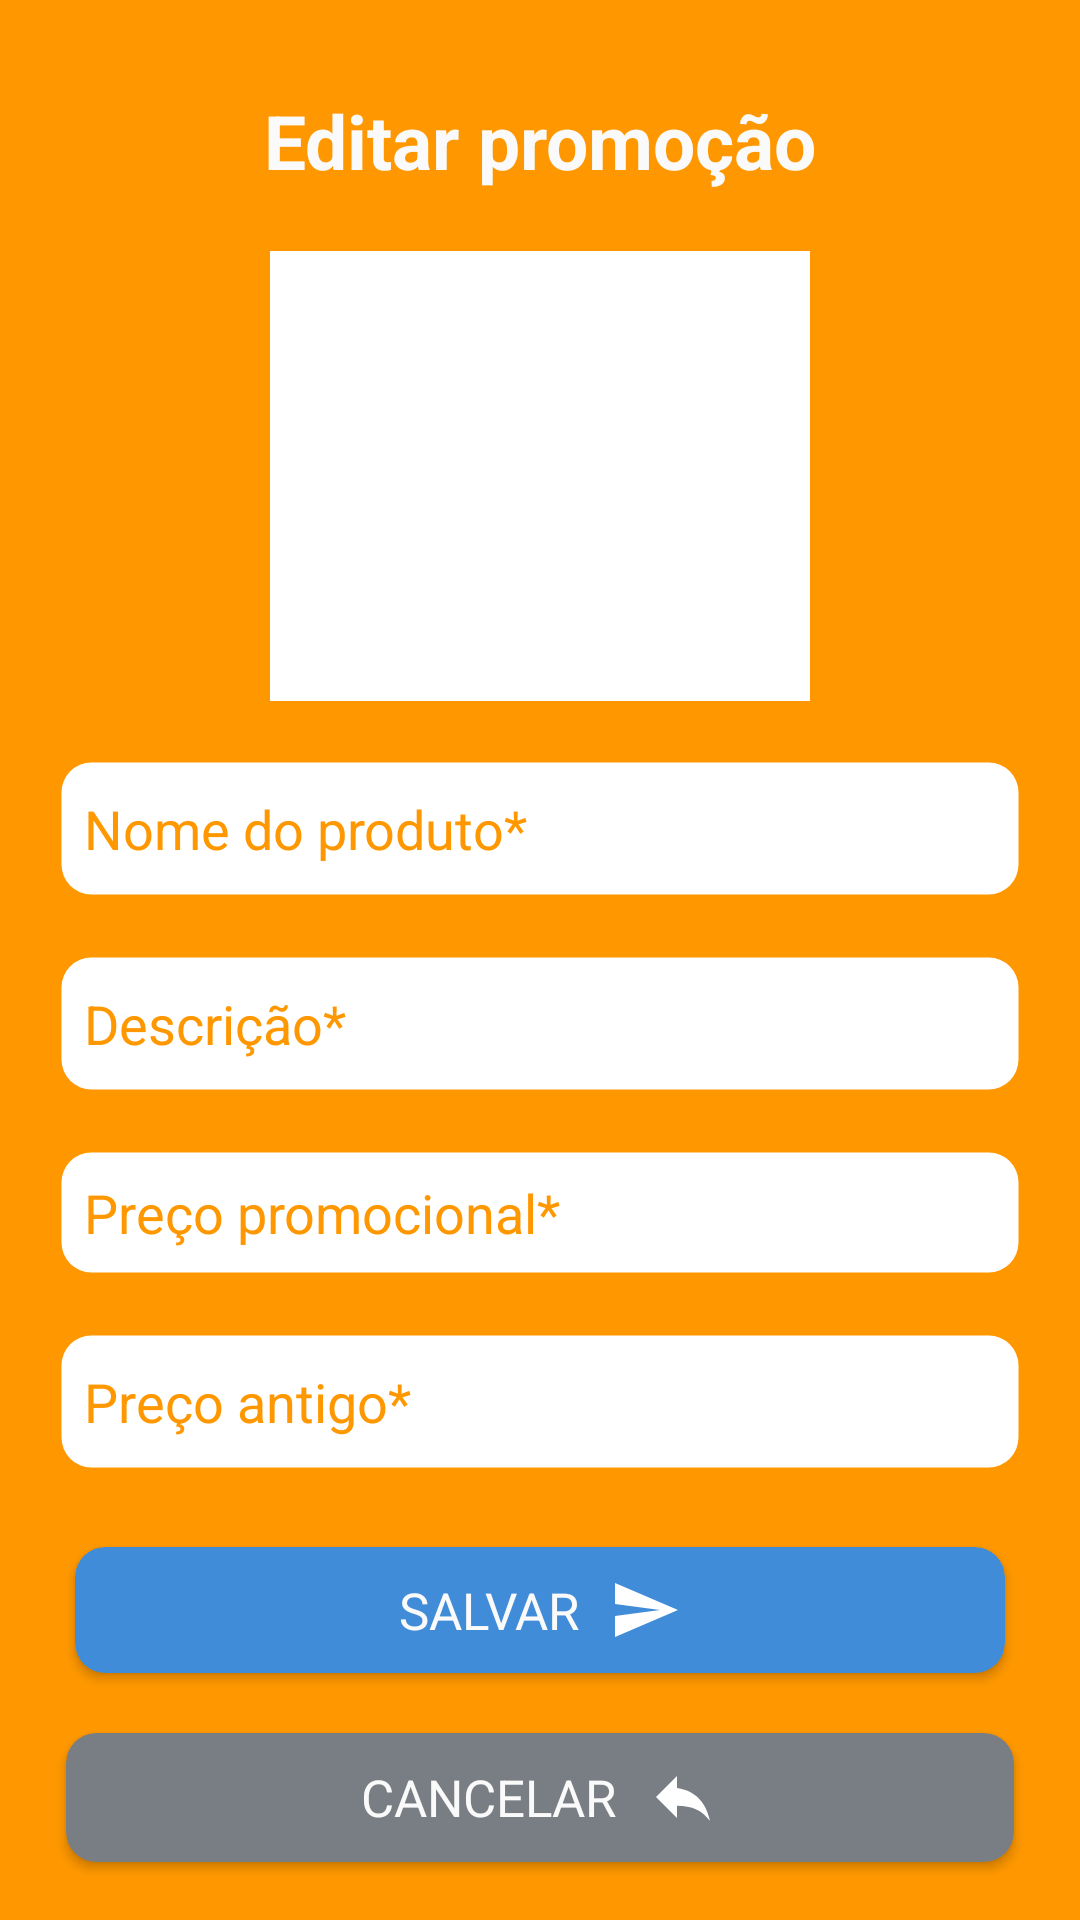

Icons on this 1080 x 1920 Android screen, each with its box as (x1, y1, x2, y2):
enviar: (615, 1583, 678, 1637)
voltar: (656, 1776, 710, 1821)
